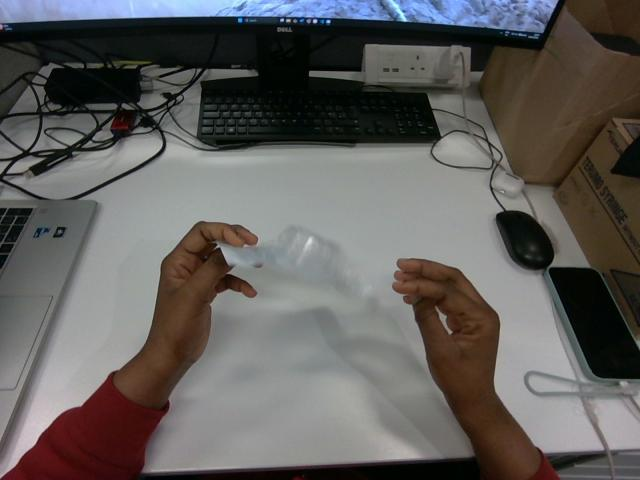gallipot: (219, 226, 371, 299)
